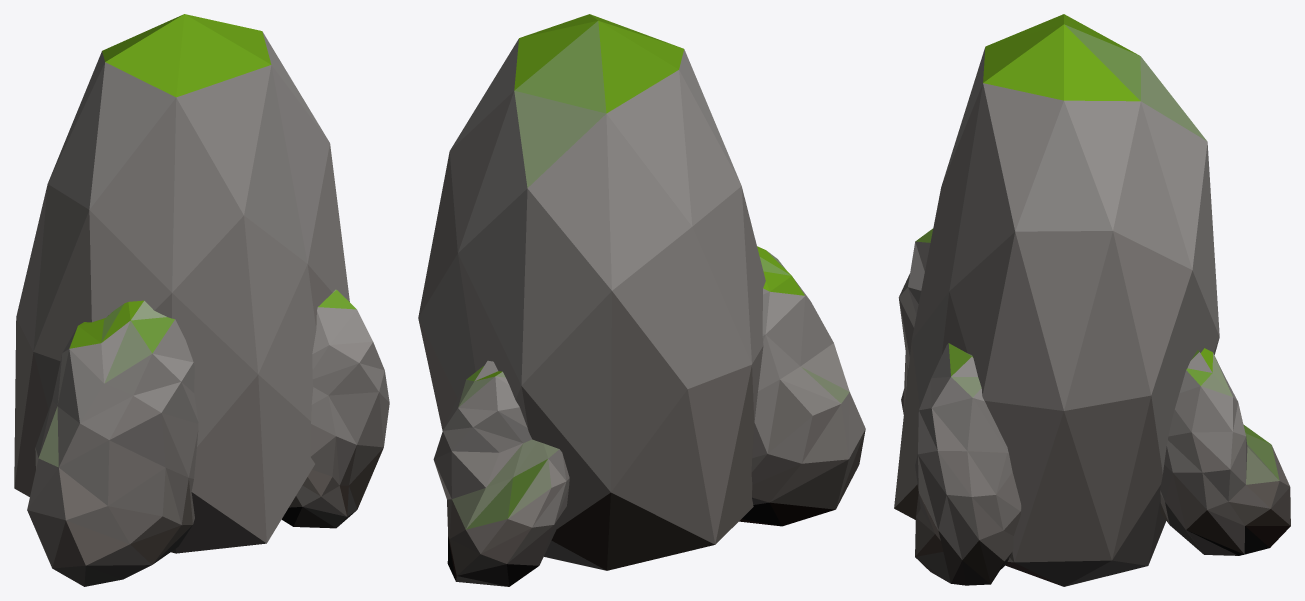
The model's file is batu_boulder_limestone_729140.glb.
3 renders of one model, left to right at view 1: azimuth 30°, elevation 25°; view 2: azimuth 150°, elevation 25°; view 3: azimuth 270°, elevation 25°, orthographic. The views are drawn at different scales.
Parts seen in each view (by area): view 1: Batu_Jeram_Sungai; view 2: Batu_Jeram_Sungai; view 3: Batu_Jeram_Sungai.
Boxes of the visible parts, bbox=[...] form: Batu_Jeram_Sungai: bbox=[14, 14, 389, 586]; Batu_Jeram_Sungai: bbox=[418, 14, 865, 586]; Batu_Jeram_Sungai: bbox=[894, 14, 1290, 586].
Bounding box in the file's own units: 3.68 × 5.16 × 3.48.
